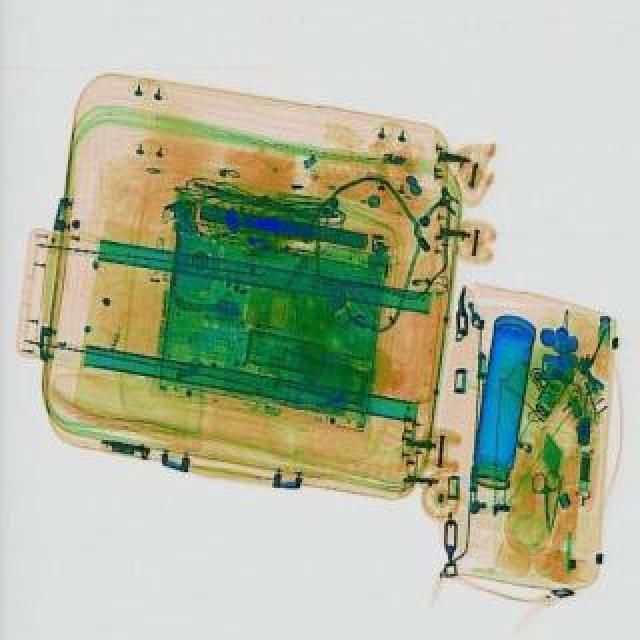pliers: (530, 466, 564, 532)
